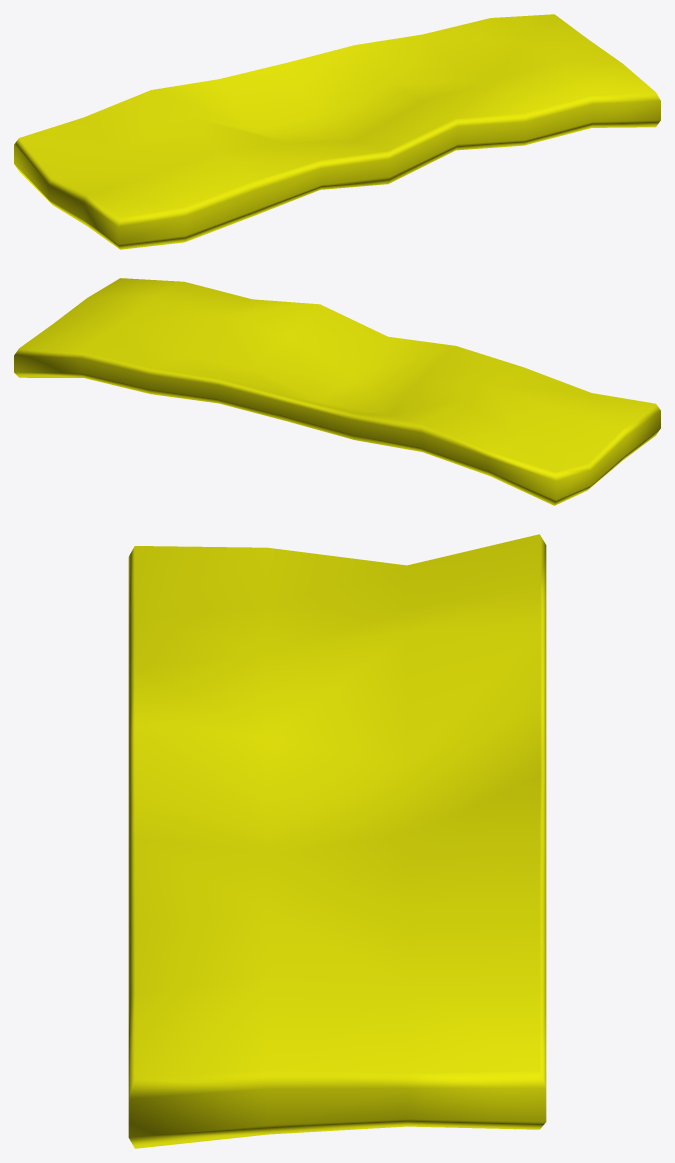
Rendered from newicm.fbx.
The picture shows the model from 3 angles, top to bottom: view 1: azimuth 30°, elevation 25°; view 2: azimuth 150°, elevation 25°; view 3: azimuth 270°, elevation 25°; orthographic projection. The views are drawn at different scales.
Parts seen in each view (by area): view 1: IceTrail_mesh; view 2: IceTrail_mesh; view 3: IceTrail_mesh.
Part boxes in pixels (left/top/right/bottom): IceTrail_mesh: left=14, top=14, right=660, bottom=249; IceTrail_mesh: left=14, top=278, right=660, bottom=505; IceTrail_mesh: left=128, top=534, right=546, bottom=1148.
Size of the model in its own units: 0.3 by 0.0325 by 0.1.
